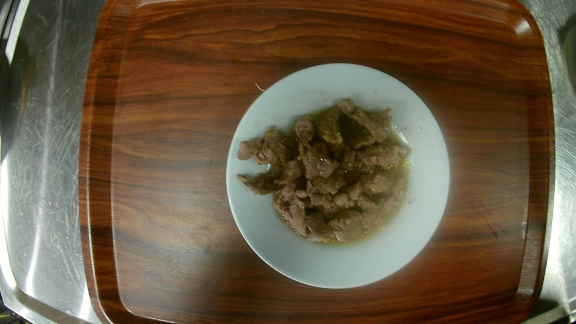etsote: (224, 62, 451, 292)
